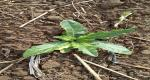bodyak: (20, 20, 138, 58)
